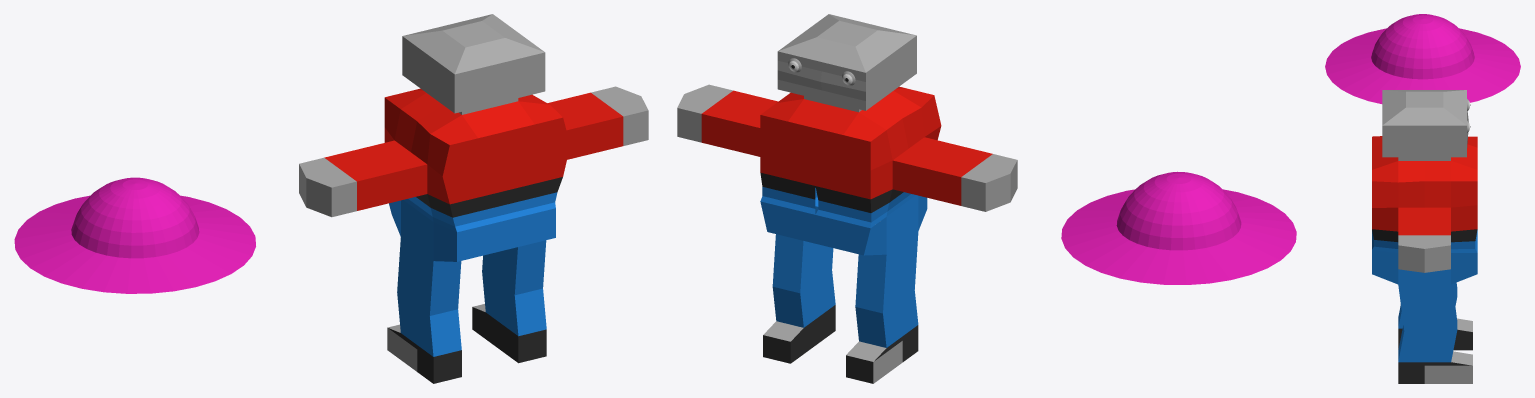
Rendered from assignment43daditya.fbx.
3 views of the same model, side by side, from view 1: azimuth 30°, elevation 25°; view 2: azimuth 150°, elevation 25°; view 3: azimuth 270°, elevation 25° (orthographic). The views are drawn at different scales.
Parts seen in each view (by area): view 1: Cube, Sphere; view 2: Cube, Sphere; view 3: Cube, Sphere.
Part boxes in pixels (bbox=[...]): Cube: bbox=[299, 14, 648, 383]; Sphere: bbox=[14, 177, 255, 293]; Cube: bbox=[677, 14, 1017, 383]; Sphere: bbox=[1061, 171, 1296, 284]; Cube: bbox=[1372, 90, 1477, 383]; Sphere: bbox=[1325, 14, 1520, 103].
Bounding box in the file's own units: 370 × 1081 × 547.
